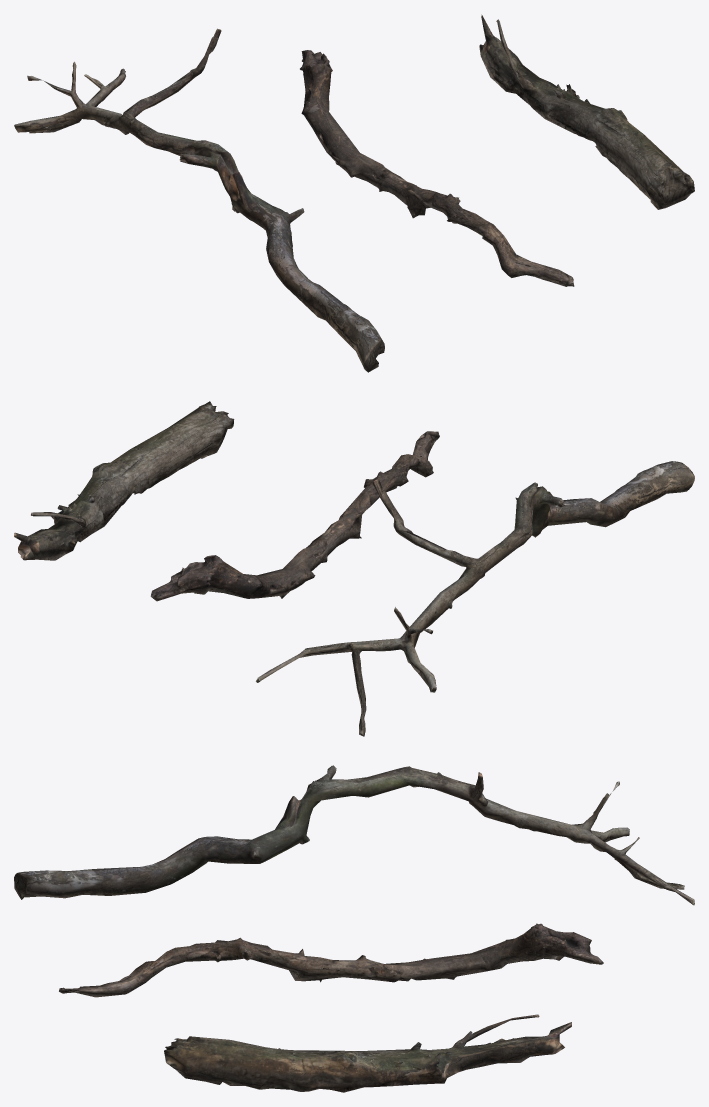
File: dry_branches_medium_01.glb
3 views of the same model, one above another, from view 1: azimuth 30°, elevation 25°; view 2: azimuth 150°, elevation 25°; view 3: azimuth 270°, elevation 25° (orthographic). The views are drawn at different scales.
Bounding box in the file's own units: 1.06 × 0.34 × 1.3.
Materials: 1 (1 with a texture image).
